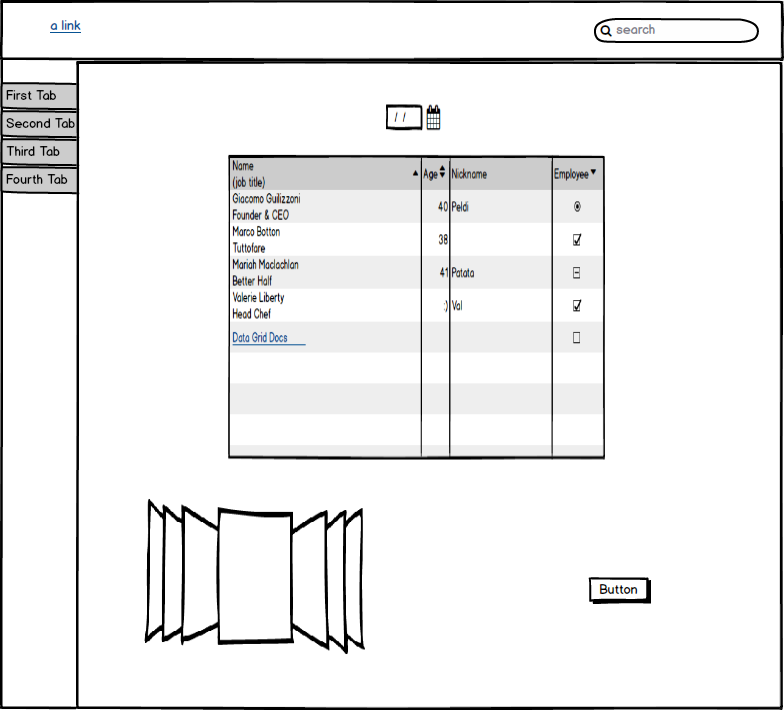button: (585, 574, 658, 609)
date_picker: (379, 98, 447, 140)
navlink: (46, 16, 89, 38)
search: (588, 13, 762, 47)
sidebar: (1, 75, 84, 201)
slideshow: (132, 495, 376, 661)
table: (223, 152, 612, 465)
